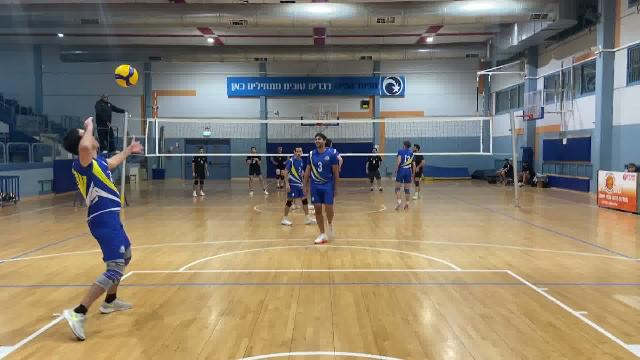ball: (111, 61, 136, 91)
